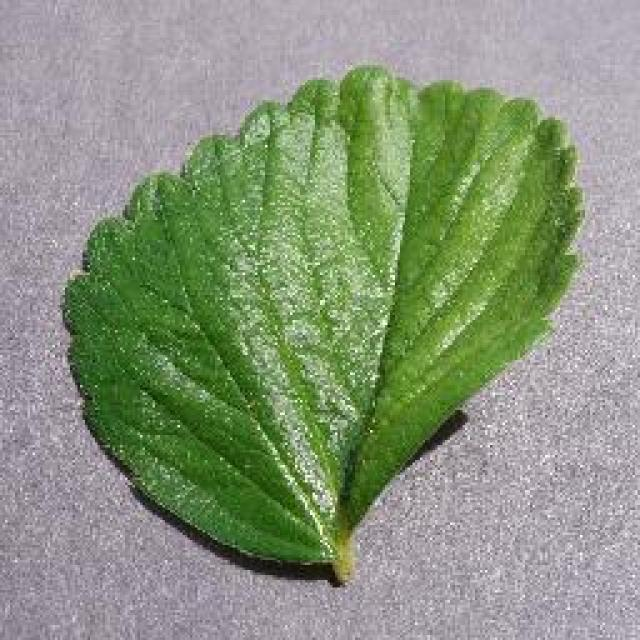Straw_healthy: (113, 81, 543, 503)
